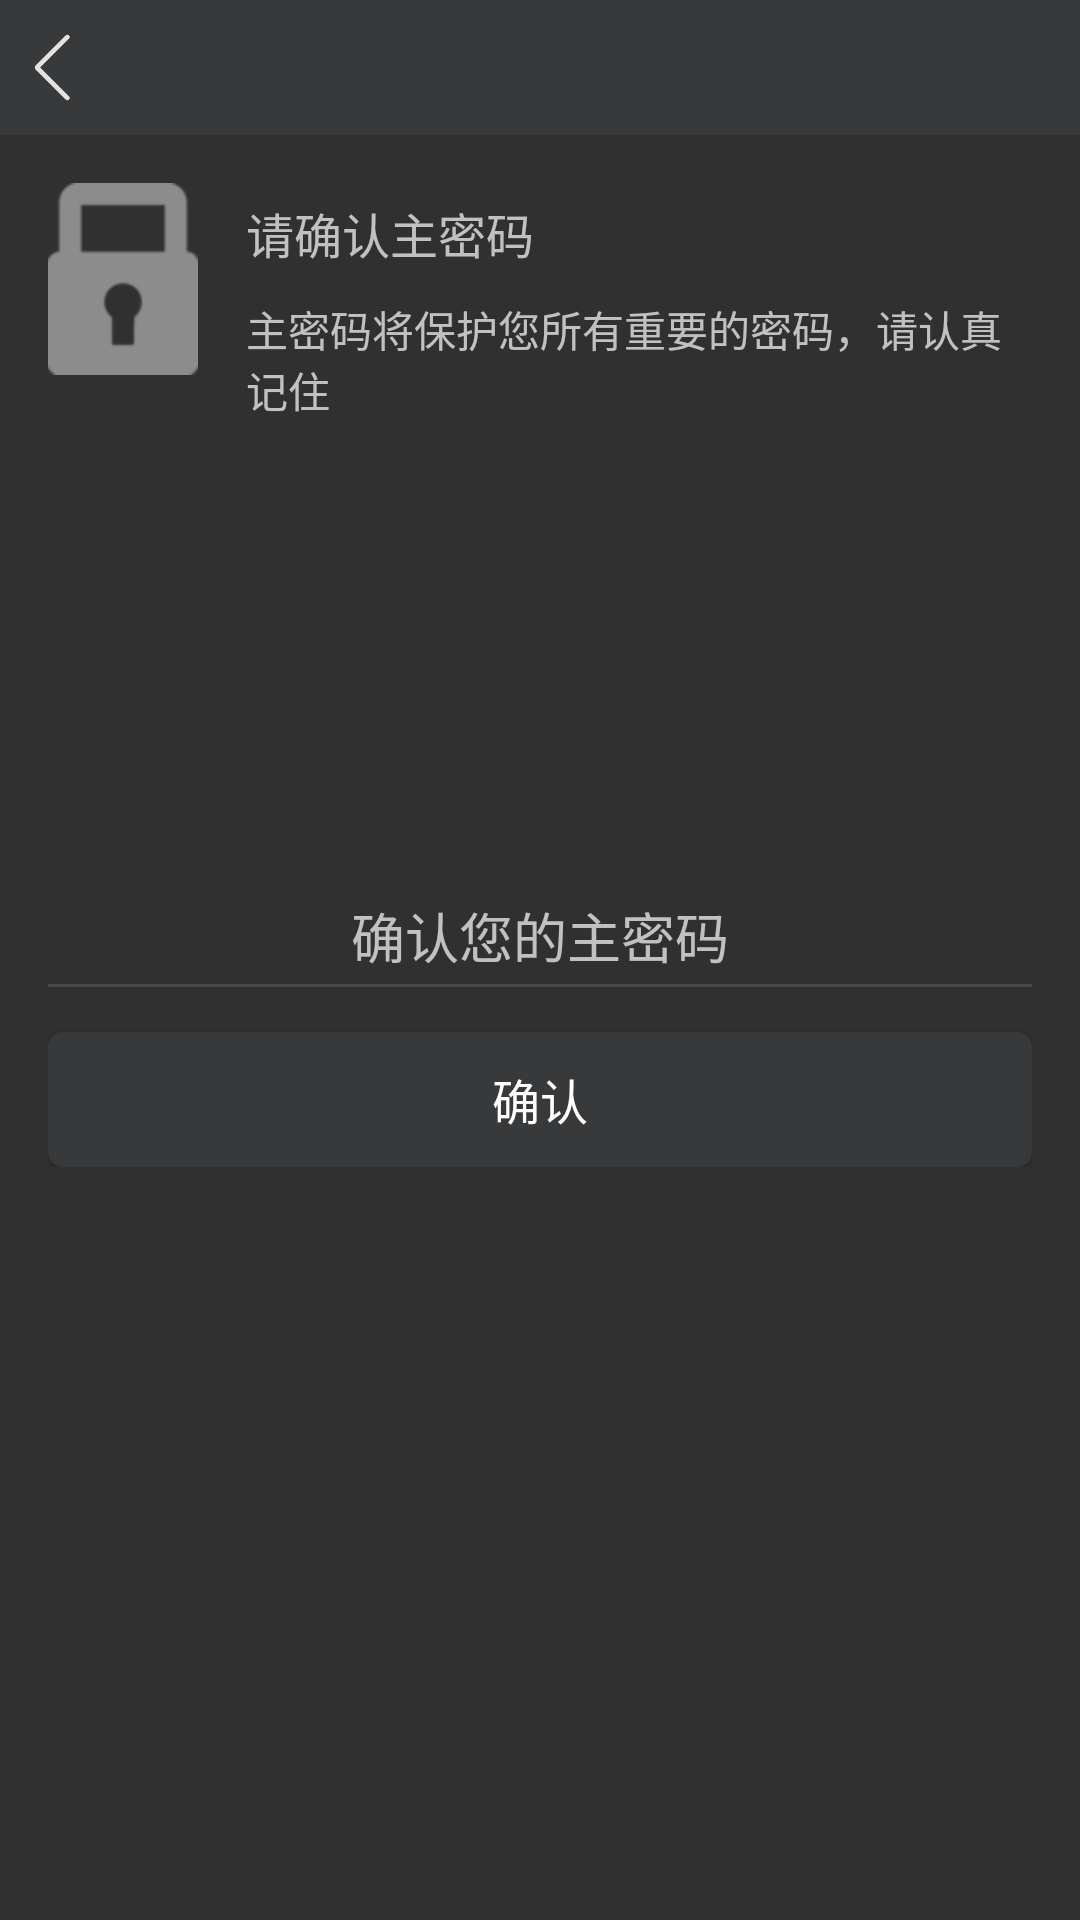

Screen size 1080px×1920px. Icon name, then its box in pixels as box=[x1, y1, x2, y2]:
back: box=[35, 34, 70, 101]
lock: box=[48, 183, 198, 375]
